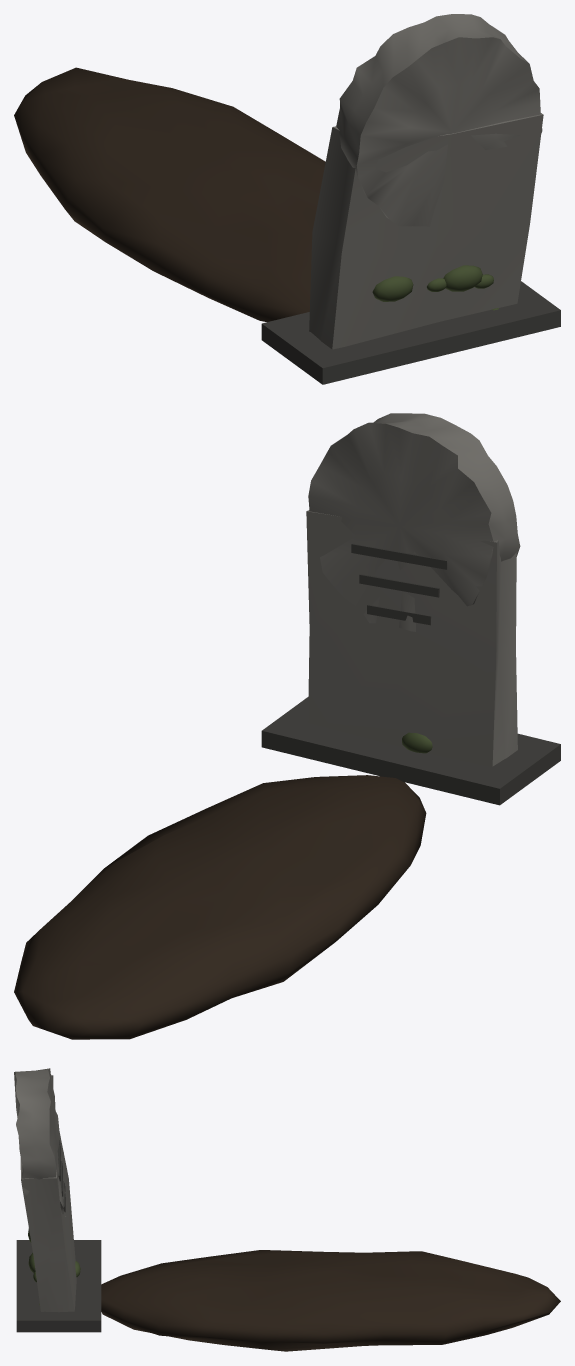
Rendered from SM_80s_Grave_Round.glb.
The picture shows the model from 3 angles, top to bottom: view 1: azimuth 30°, elevation 25°; view 2: azimuth 150°, elevation 25°; view 3: azimuth 270°, elevation 25°; orthographic projection. The views are drawn at different scales.
Parts seen in each view (by area): view 1: SM_80s_Grave_Round; view 2: SM_80s_Grave_Round; view 3: SM_80s_Grave_Round.
Boxes of the visible parts, x1,y1,x2,y2 form: SM_80s_Grave_Round: (14,14,560,384); SM_80s_Grave_Round: (14,413,560,1039); SM_80s_Grave_Round: (14,1068,560,1351).
Size of the model in its own units: 0.9 by 1.34 by 2.58.
